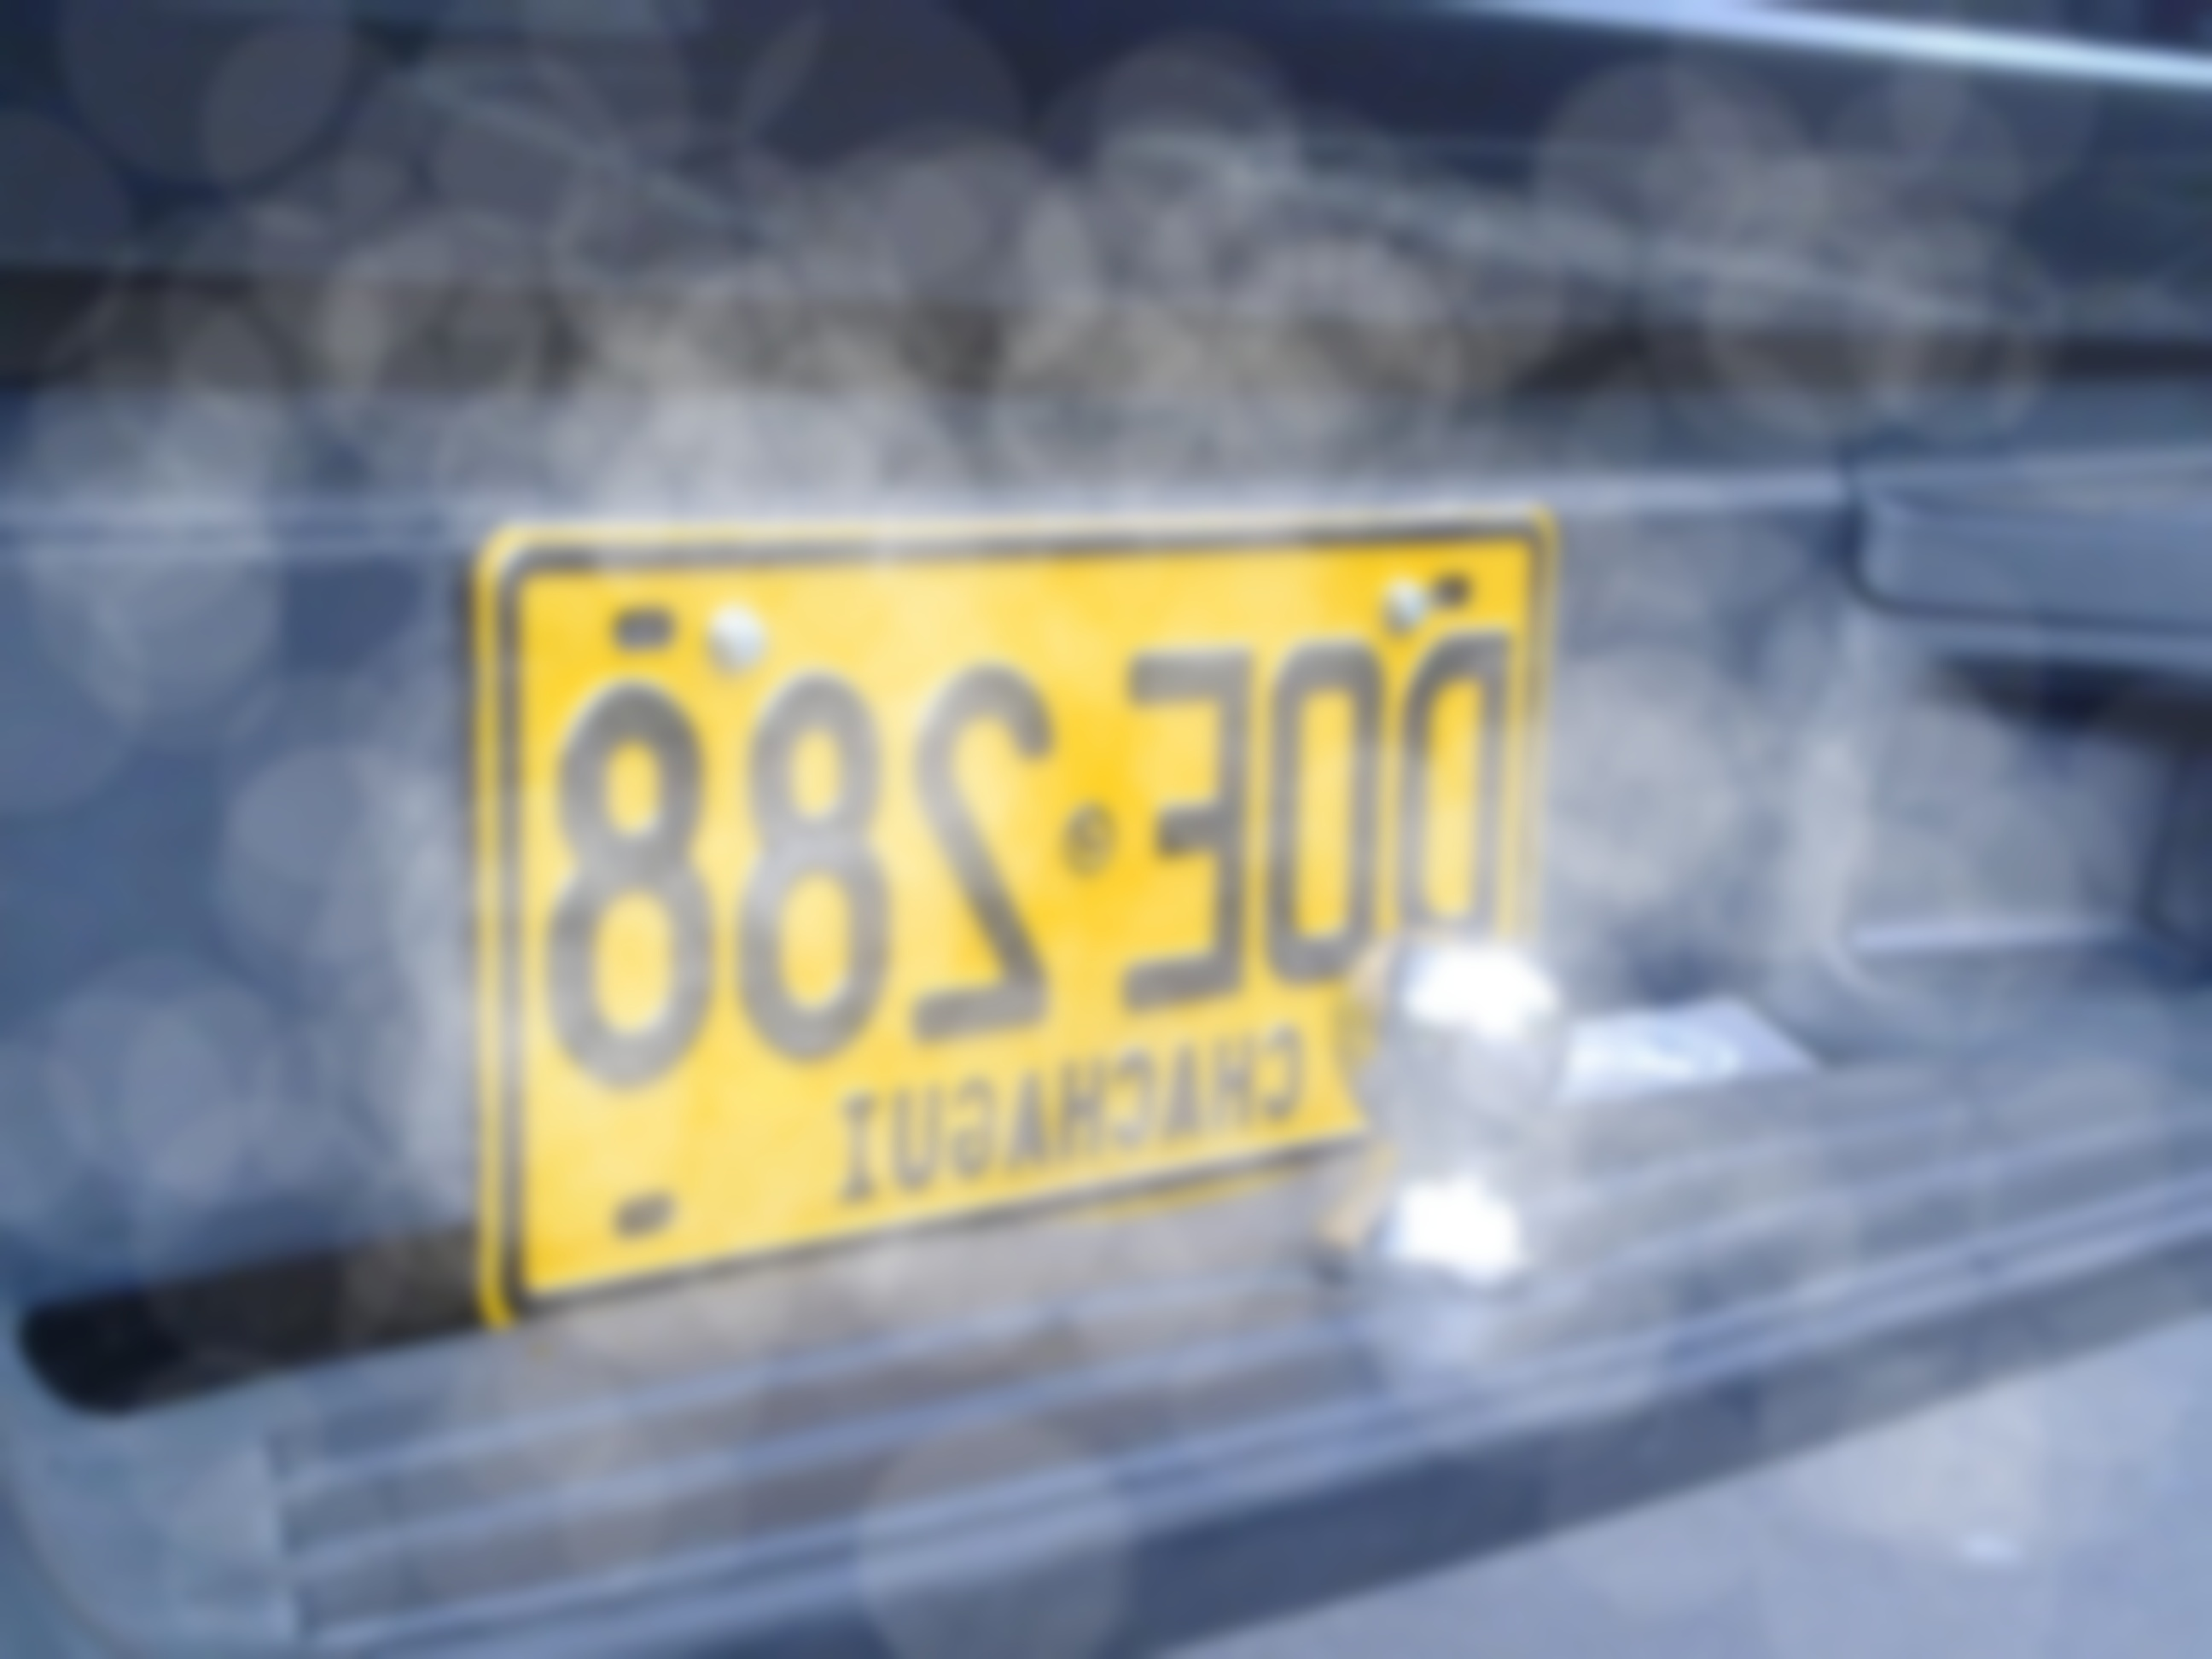placas: (469, 483, 1569, 1342)
